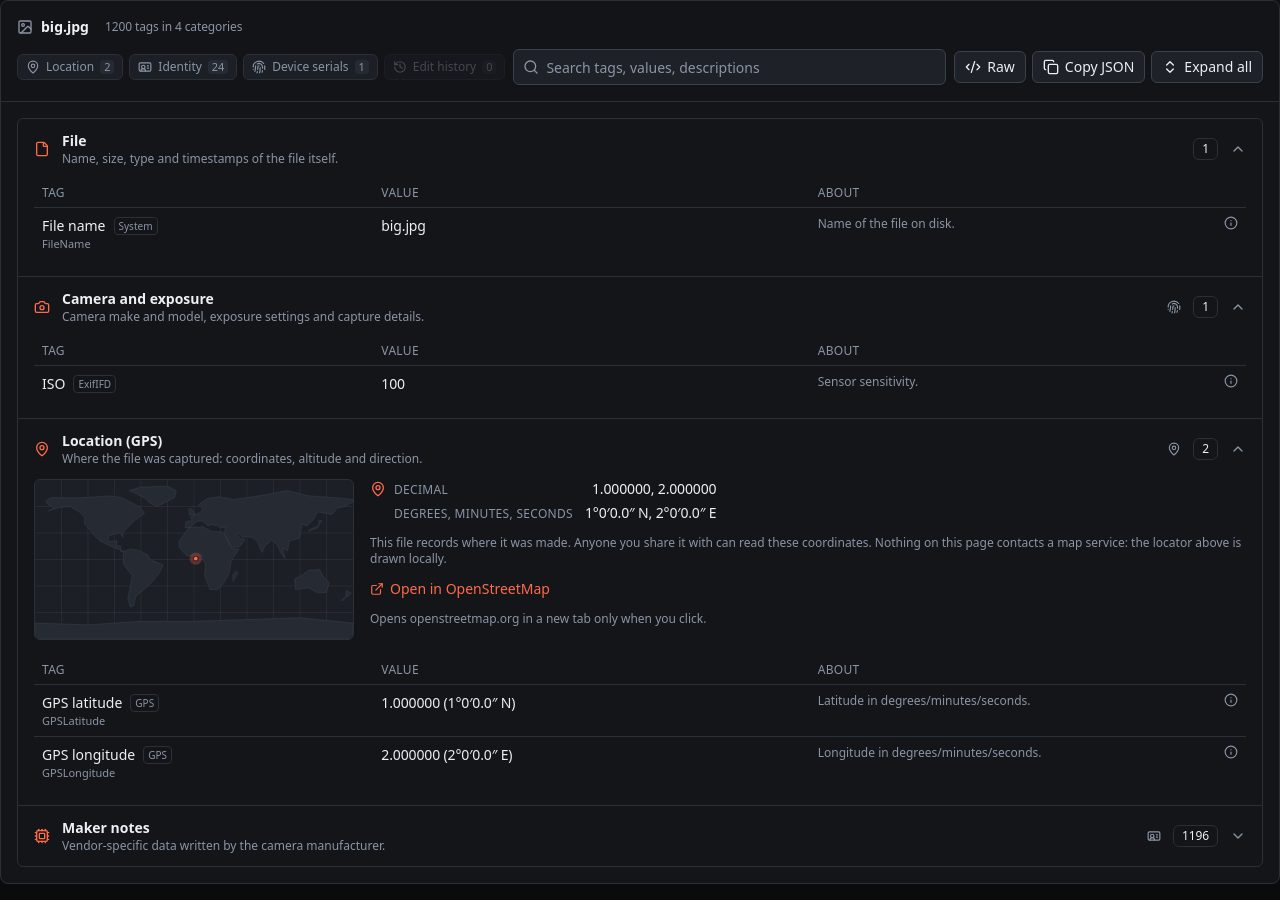
Test: MetadataInspector with 1,200 entries › search narrows 1,200 entries and Expand all opens everything
Click the button "Expand all".
click(1207, 67)  # box [1151, 51, 1263, 83]
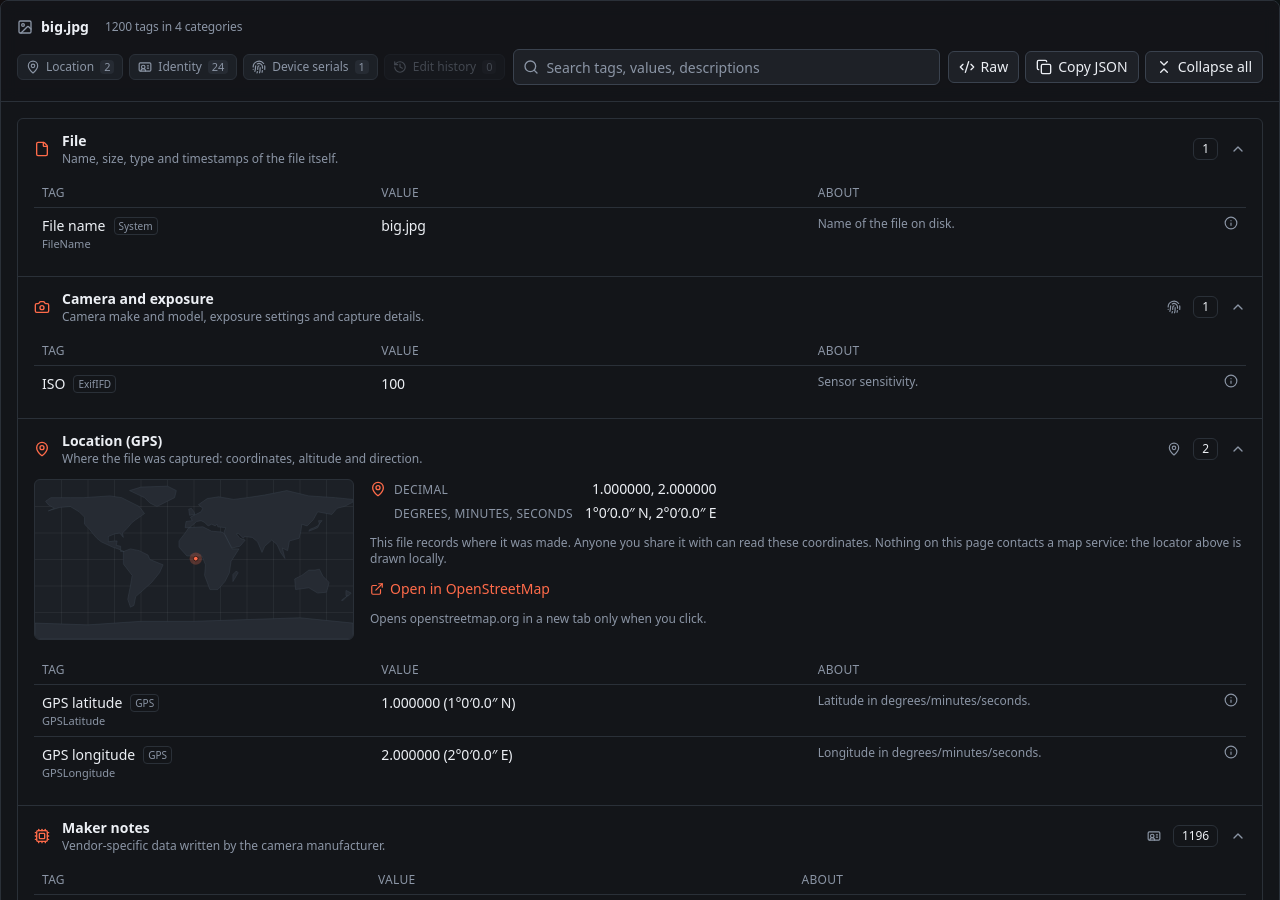
Type "MakerTag777" into the search field.
click(726, 67); type("MakerTag777")  # box [513, 49, 940, 85]
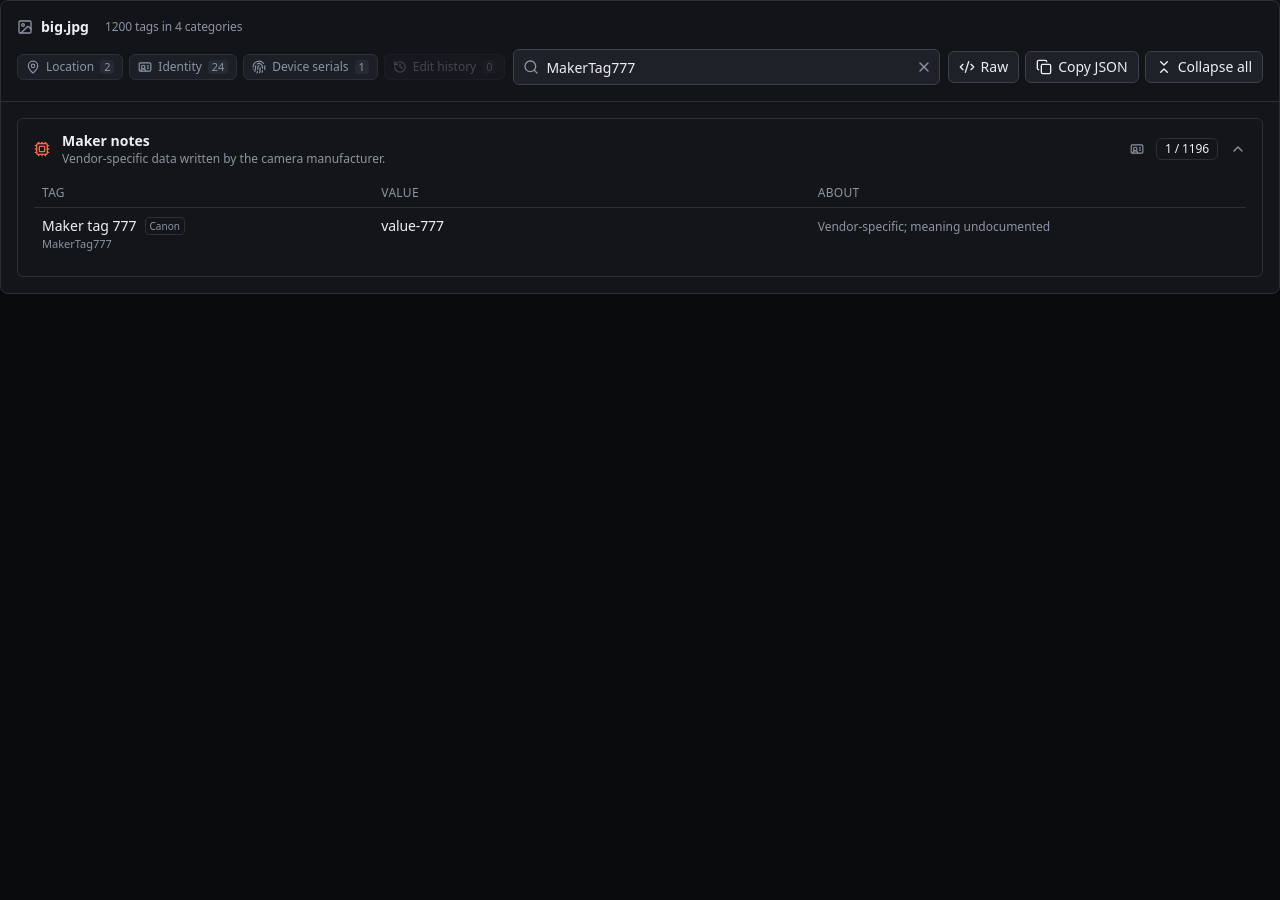
Now the text with test id "metadata-count-makernote" reads "1 / 1196", box [1165, 140, 1209, 157]
